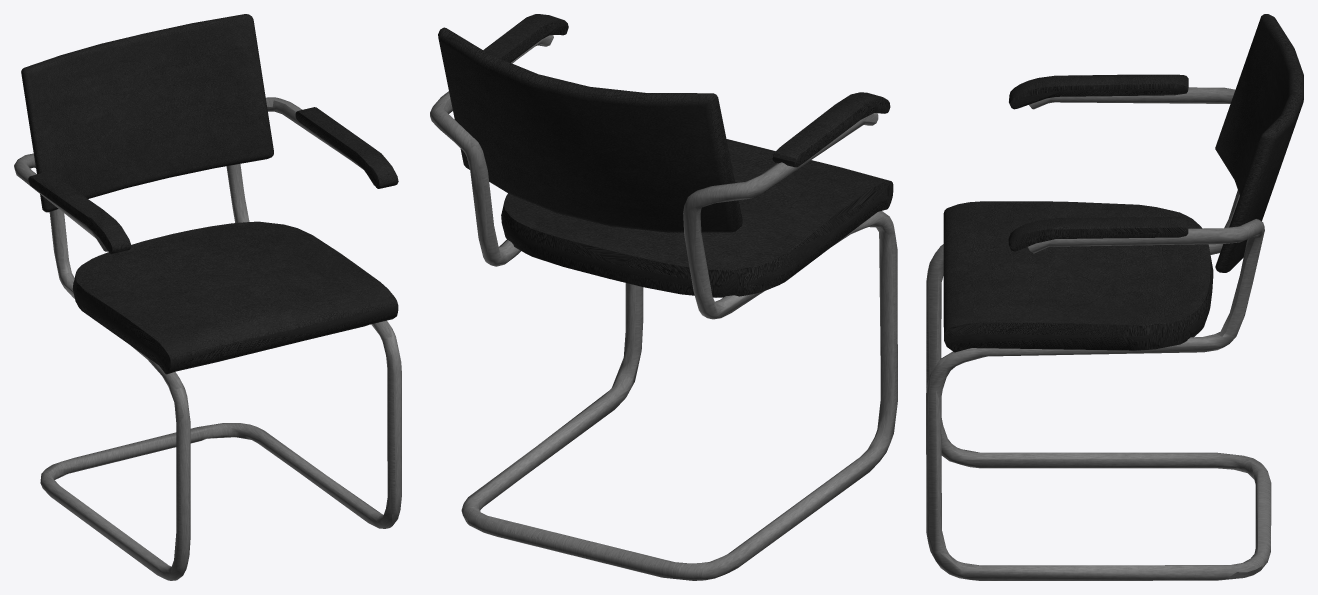
File: Chair.FBX
The picture shows the model from 3 angles, left to right: view 1: azimuth 30°, elevation 25°; view 2: azimuth 150°, elevation 25°; view 3: azimuth 270°, elevation 25°; orthographic projection. The views are drawn at different scales.
Parts seen in each view (by area): view 1: chair1; view 2: chair1; view 3: chair1.
Boxes of the visible parts, left/top/right/bottom form: chair1: left=14, top=14, right=401, bottom=580; chair1: left=430, top=14, right=897, bottom=580; chair1: left=926, top=14, right=1303, bottom=580.
Bounding box in the file's own units: 584 × 604 × 795.
